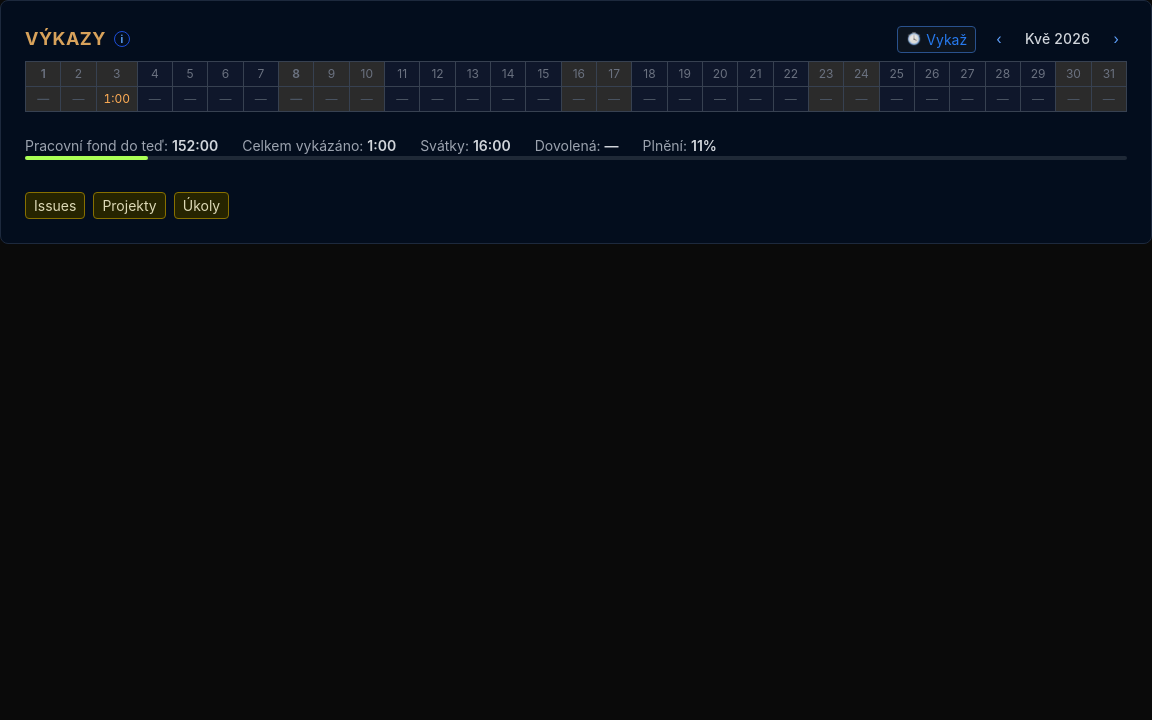
Scenario: WorklogsSection monthly issues › Clockify detailní worklog nemá tlačítko editace
Click the button with aria-label "Issues v tomto měsíci": (55, 206) [25,192,85,219]
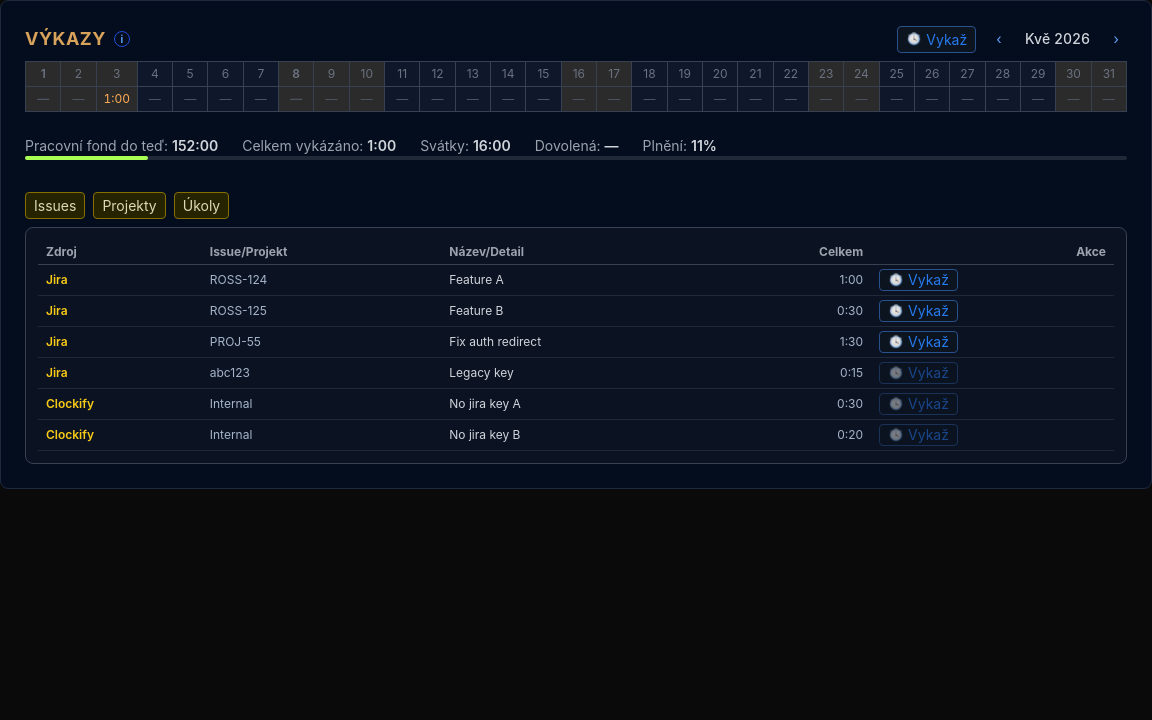
Expected: the text "Internal" next to "No jira key A" is shown, [210,396,252,411]
Click the text "Internal" next to "No jira key A": (231, 404) [202,388,441,420]
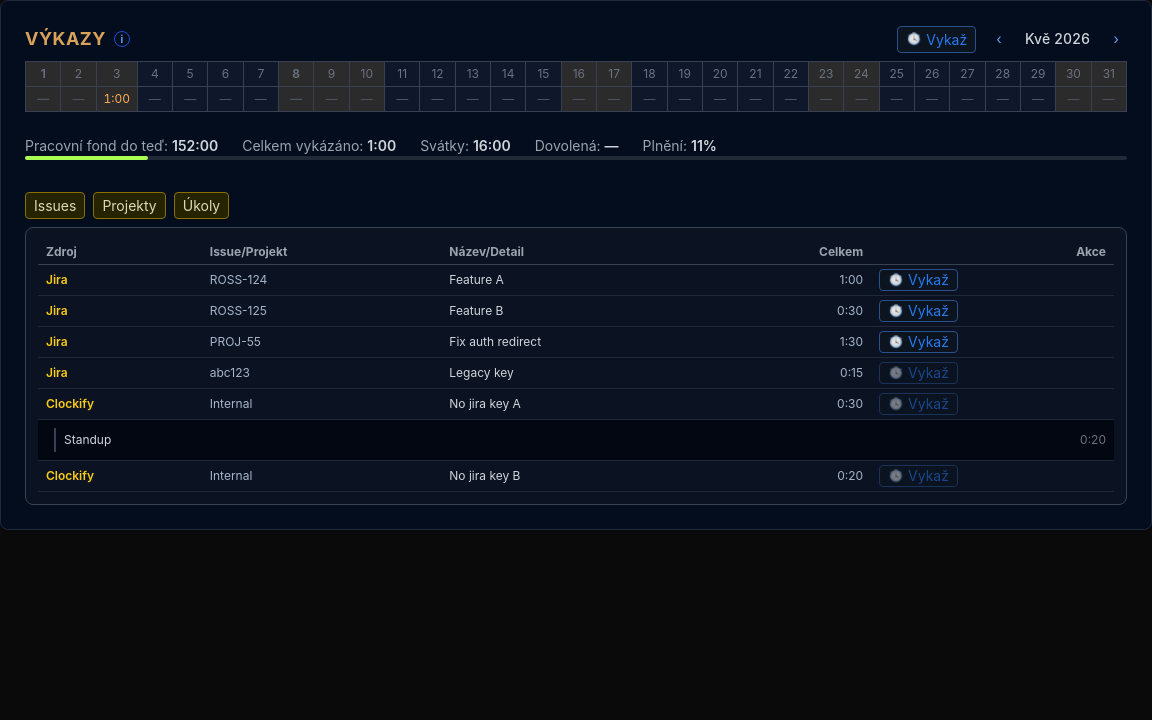
Expected: the text "Standup" is shown, [64,432,111,447]
